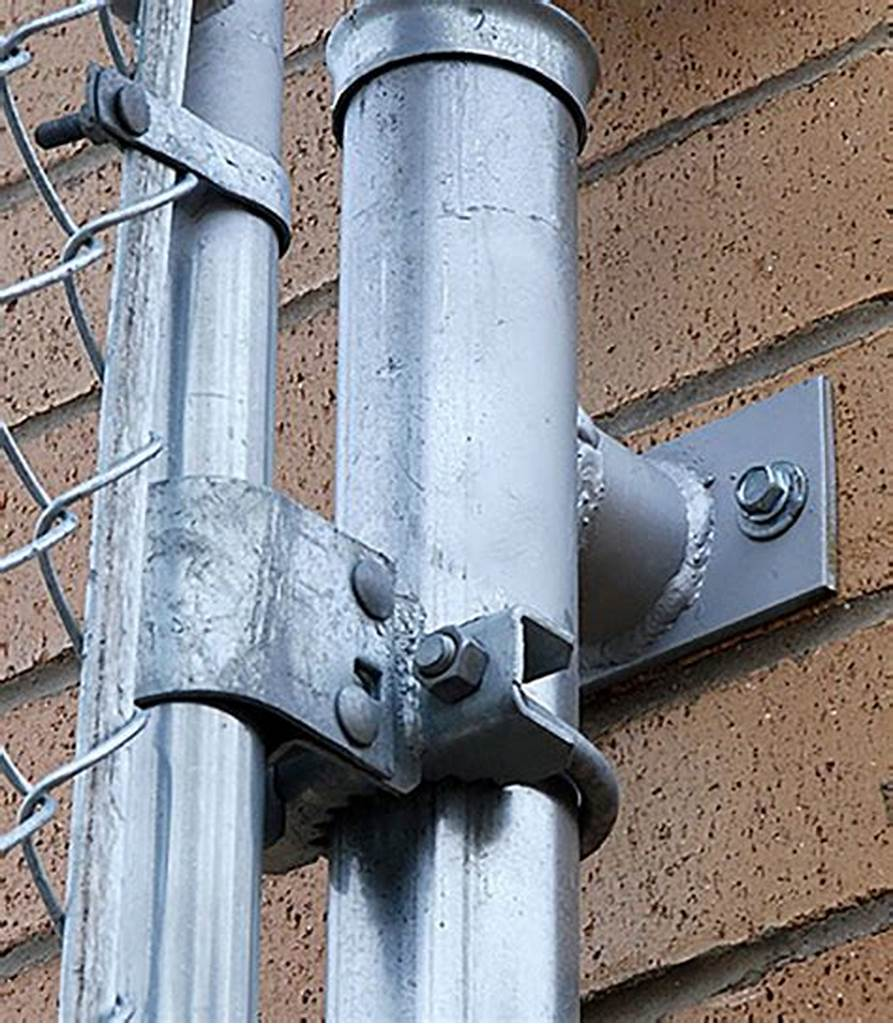bolt_b: (409, 624, 491, 709)
vague: (730, 464, 785, 517)
